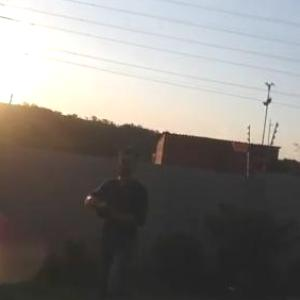follow: (76, 140, 162, 298)
